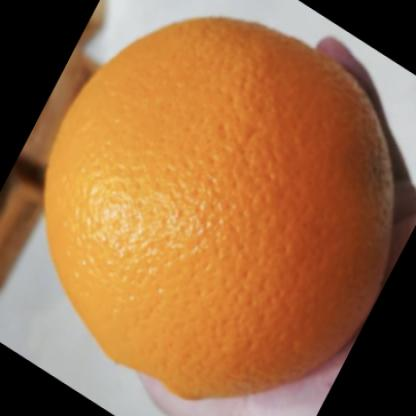fresh: (44, 17, 391, 395)
